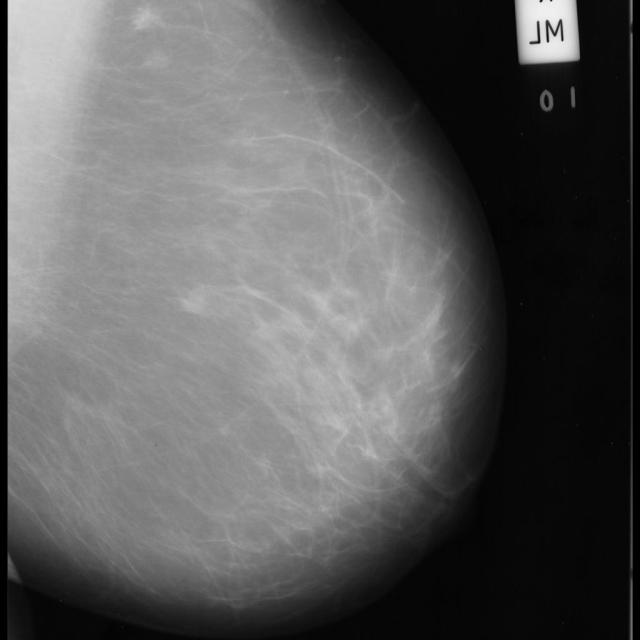tumour: (182, 285, 208, 315)
